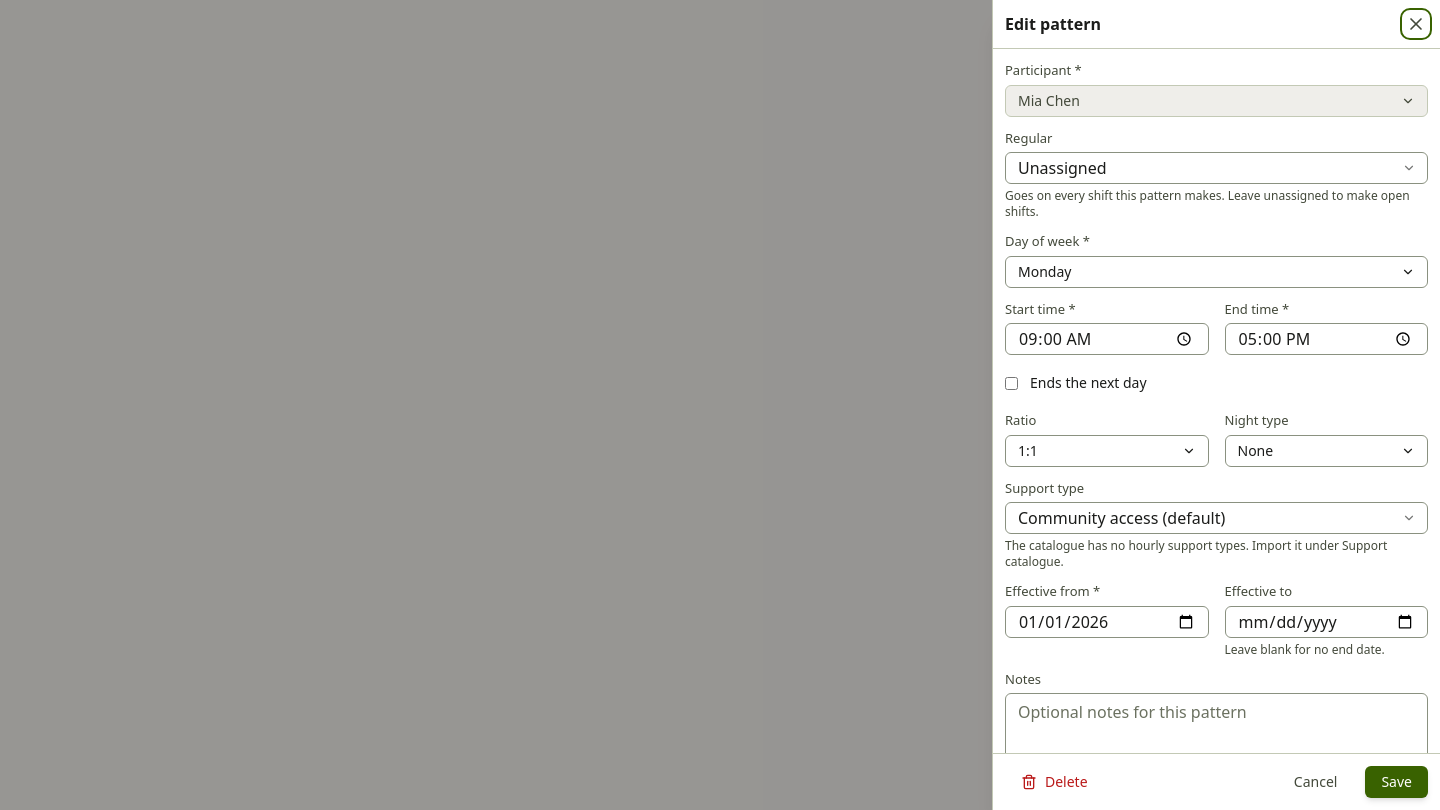
Test: PatternSlideOver Default staff field — SearchableSelect (DS-01/UX-01 migration) › selects via keyboard (arrow down + enter)
Click the dropdown labelled "Regular" at [1216, 168], box [1005,152,1428,184]
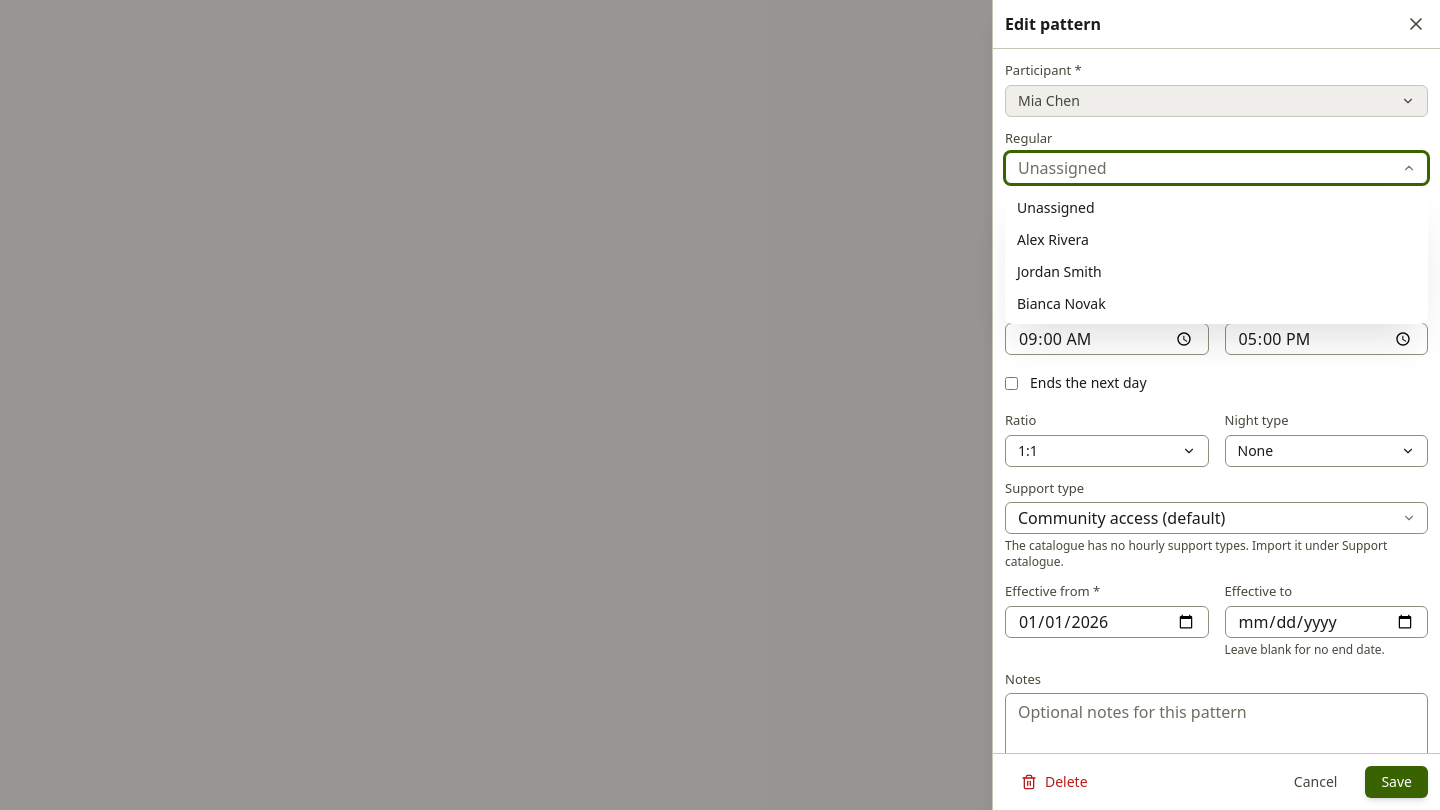
Note: Unassigned, Alex Rivera, Jordan Smith, Bianca Novak — three ArrowDowns lands on Jordan Smith.
Press Arrowdown Arrowdown Arrowdown Enter
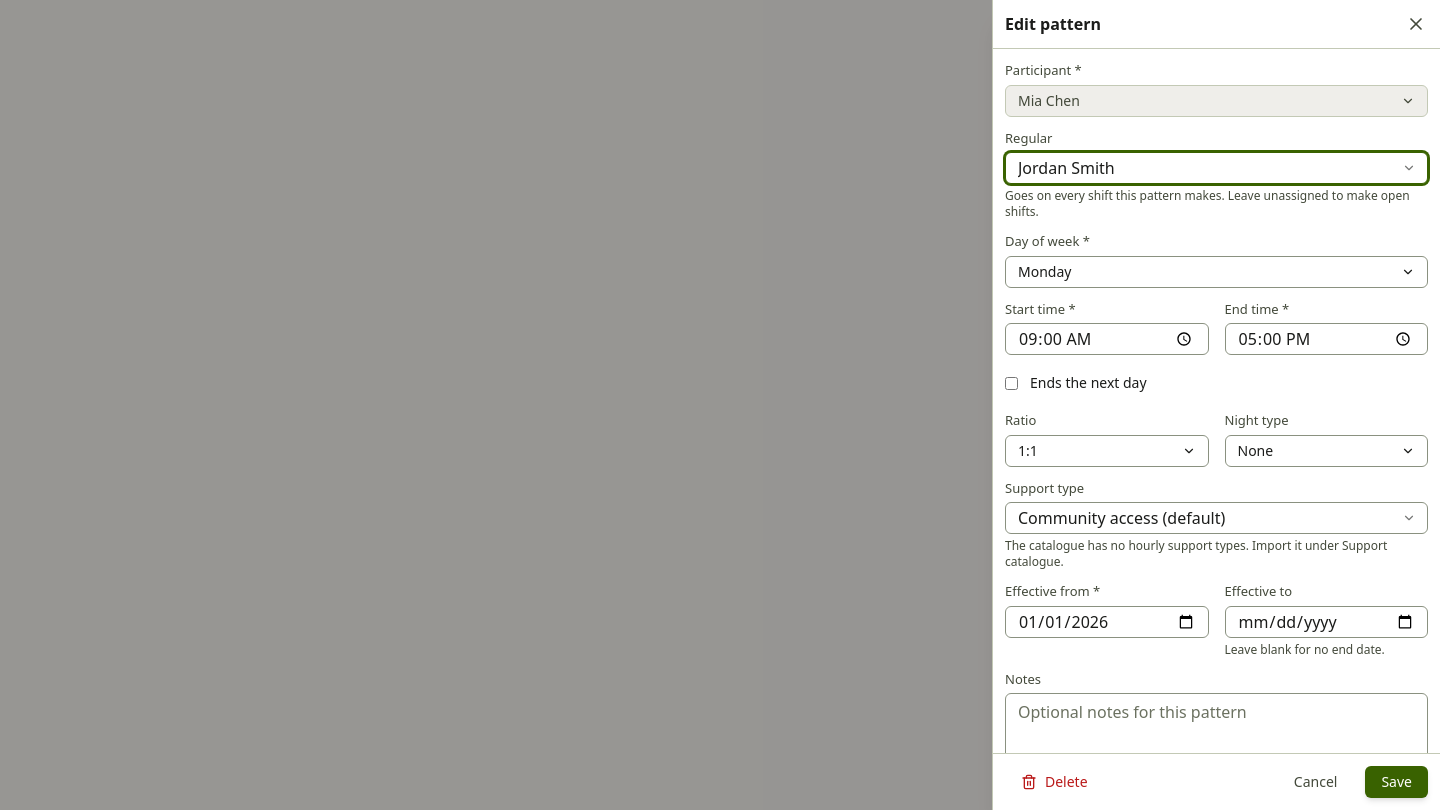
Now the dropdown labelled "Regular" holds "Jordan Smith", box [1005,152,1428,184]
Now the dropdown labelled "Regular" is collapsed, box [1005,152,1428,184]
